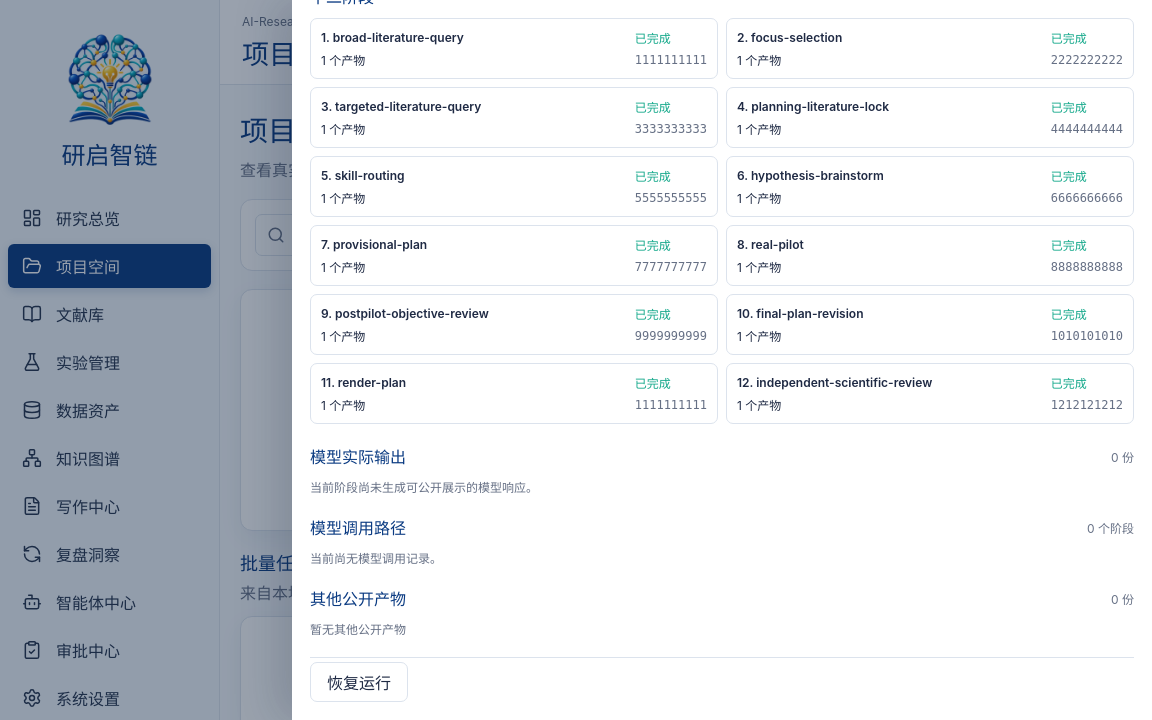
Test: renders resume errors inline and invalidates run data only after retry succeeds
The width and height of the screenshot is (1152, 720).
(page scrolled)
Step 1. Click the button "恢复运行" → (359, 682), box top-left (310, 662), bottom-right (408, 702)
(page scrolled)
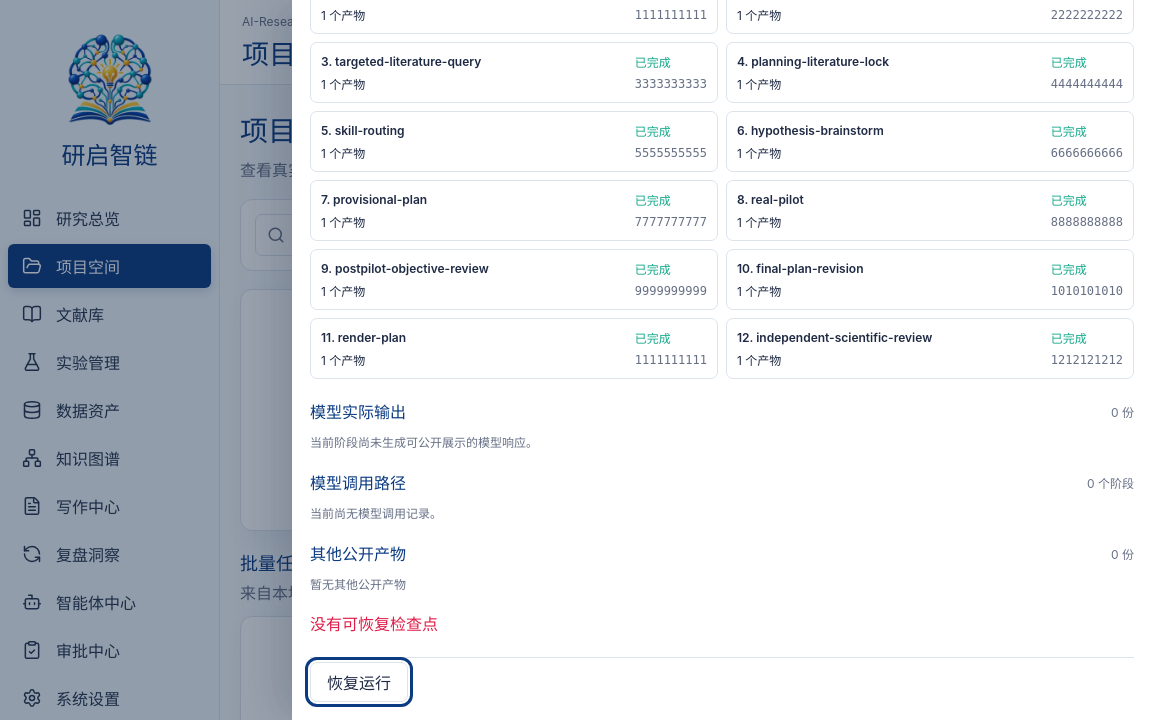
Expected: the message reads "没有可恢复检查点", top-left (310, 614), bottom-right (438, 634)
Step 2. Click the button "恢复运行" → (359, 682), box top-left (310, 662), bottom-right (408, 702)
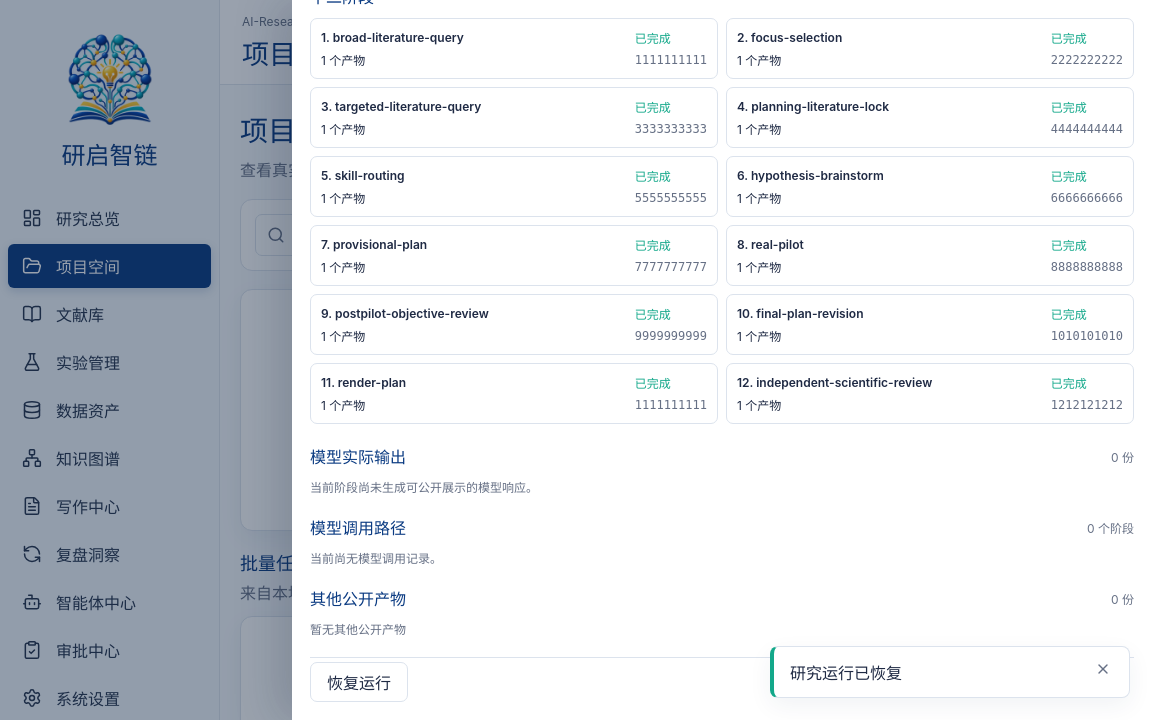
Expected: the message reads "研究运行已恢复", top-left (790, 663), bottom-right (902, 683)
